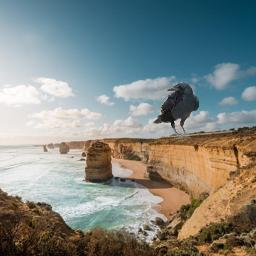Crow: (153, 82, 199, 139)
